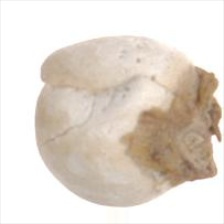L4: (33, 35, 221, 207)
